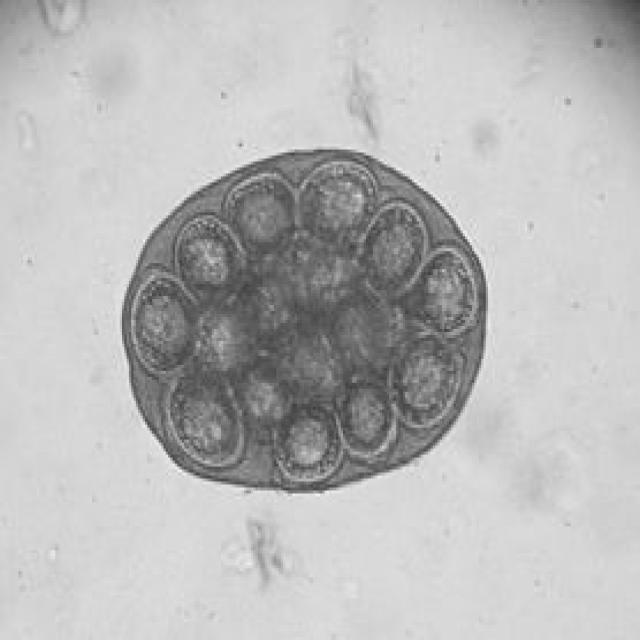Ancylostoma Spp: (103, 138, 500, 512)
